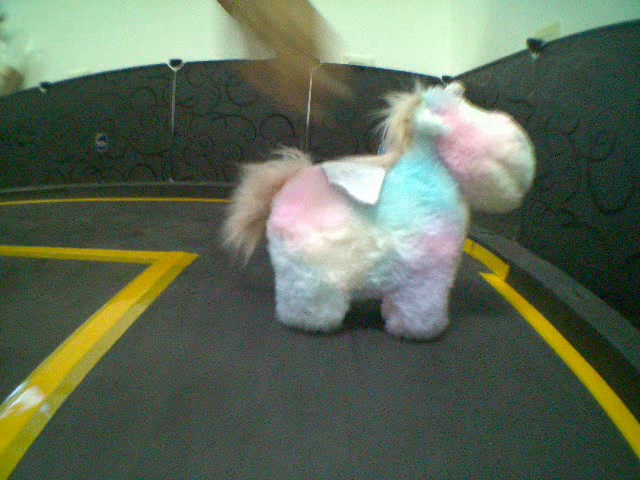unicorn: (216, 75, 541, 344)
